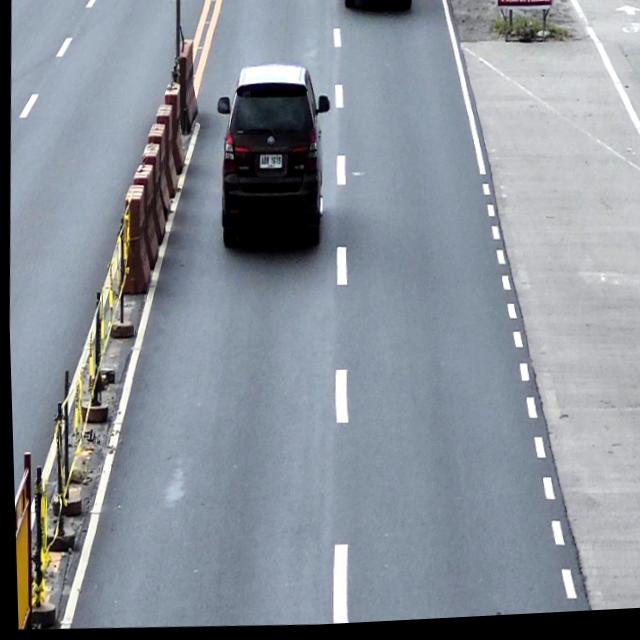Car: (210, 61, 334, 254)
License-Plate: (256, 153, 282, 174)
